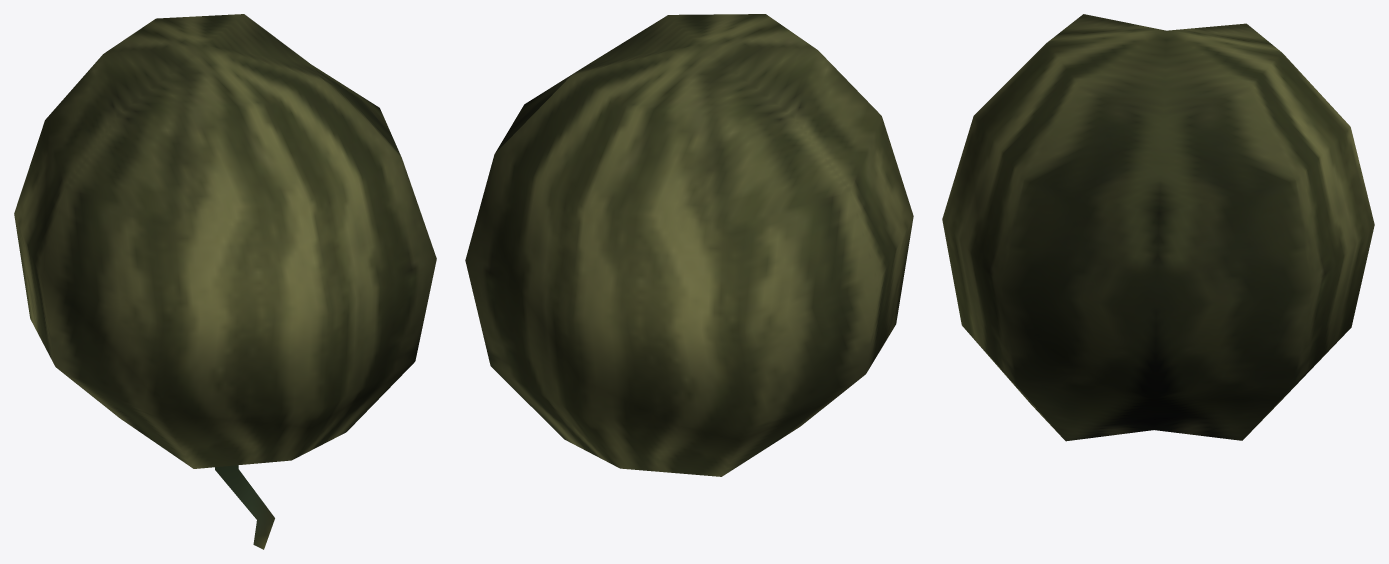
The model's file is Melon B.glb.
The picture shows the model from 3 angles, left to right: view 1: azimuth 30°, elevation 25°; view 2: azimuth 150°, elevation 25°; view 3: azimuth 270°, elevation 25°; orthographic projection. The views are drawn at different scales.
Visible parts, largest first — view 1: Melon B; view 2: Melon B; view 3: Melon B.
Boxes of the visible parts, bbox=[...] form: Melon B: bbox=[14, 14, 436, 549]; Melon B: bbox=[465, 14, 913, 476]; Melon B: bbox=[942, 14, 1374, 441].
Size of the model in its own units: 0.9253 by 1.23 by 0.9644.
1 material, 1 textured.
